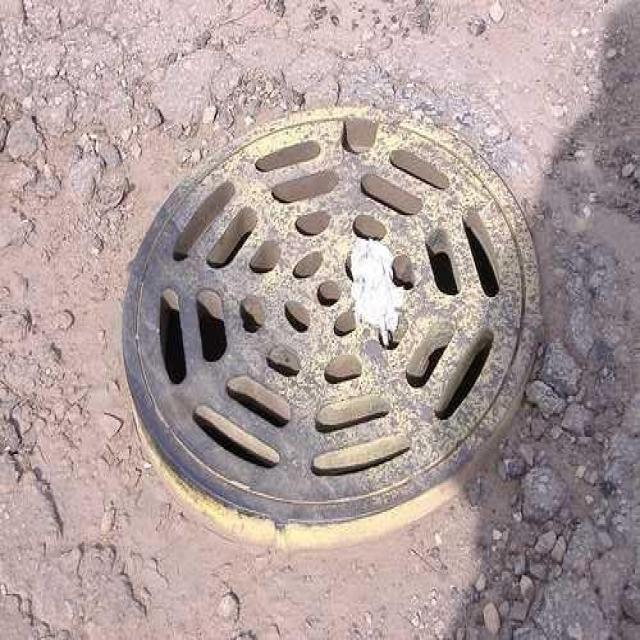manhole: (119, 104, 545, 551)
